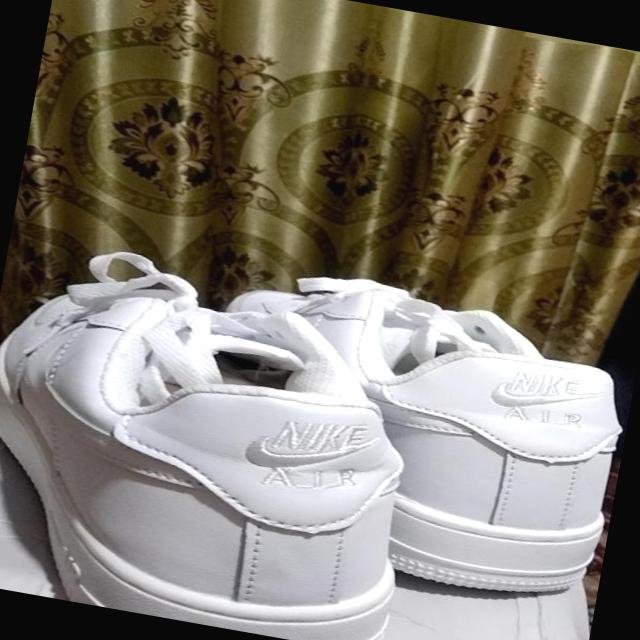nike_fake_airforce: (0, 247, 451, 640), (193, 257, 640, 613)
